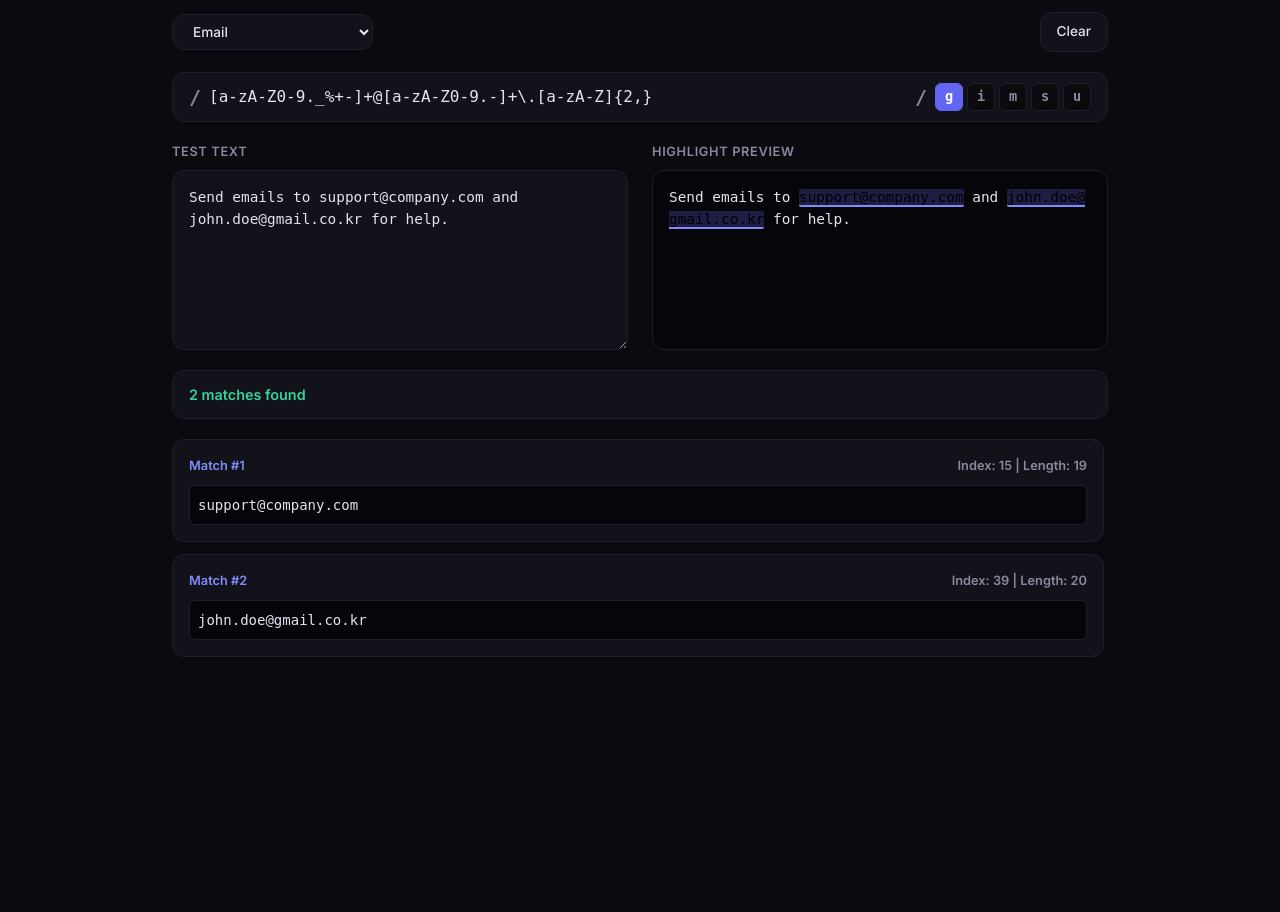
Test: RegexTool Component › displays capture groups in a table when present
The width and height of the screenshot is (1280, 912).
Replace the text in the field named "Regular expression pattern" with "(\\w+)@(\\w+\\.\\w+)" at (558, 97), box 209,83 -> 907,110
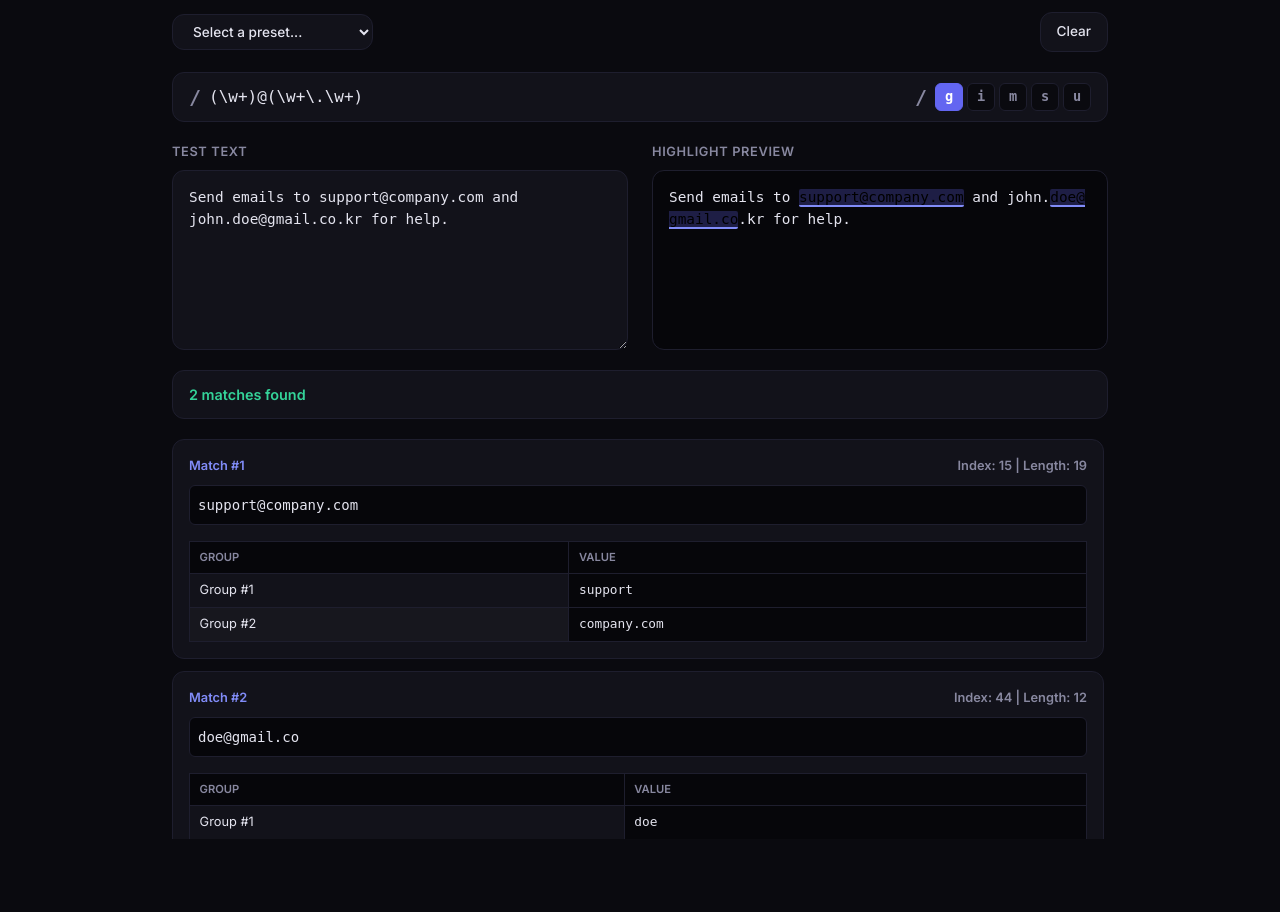
Replace the text in the text box labelled "Test Text" with "user@example.com" at (400, 260), box 172,170 -> 628,350
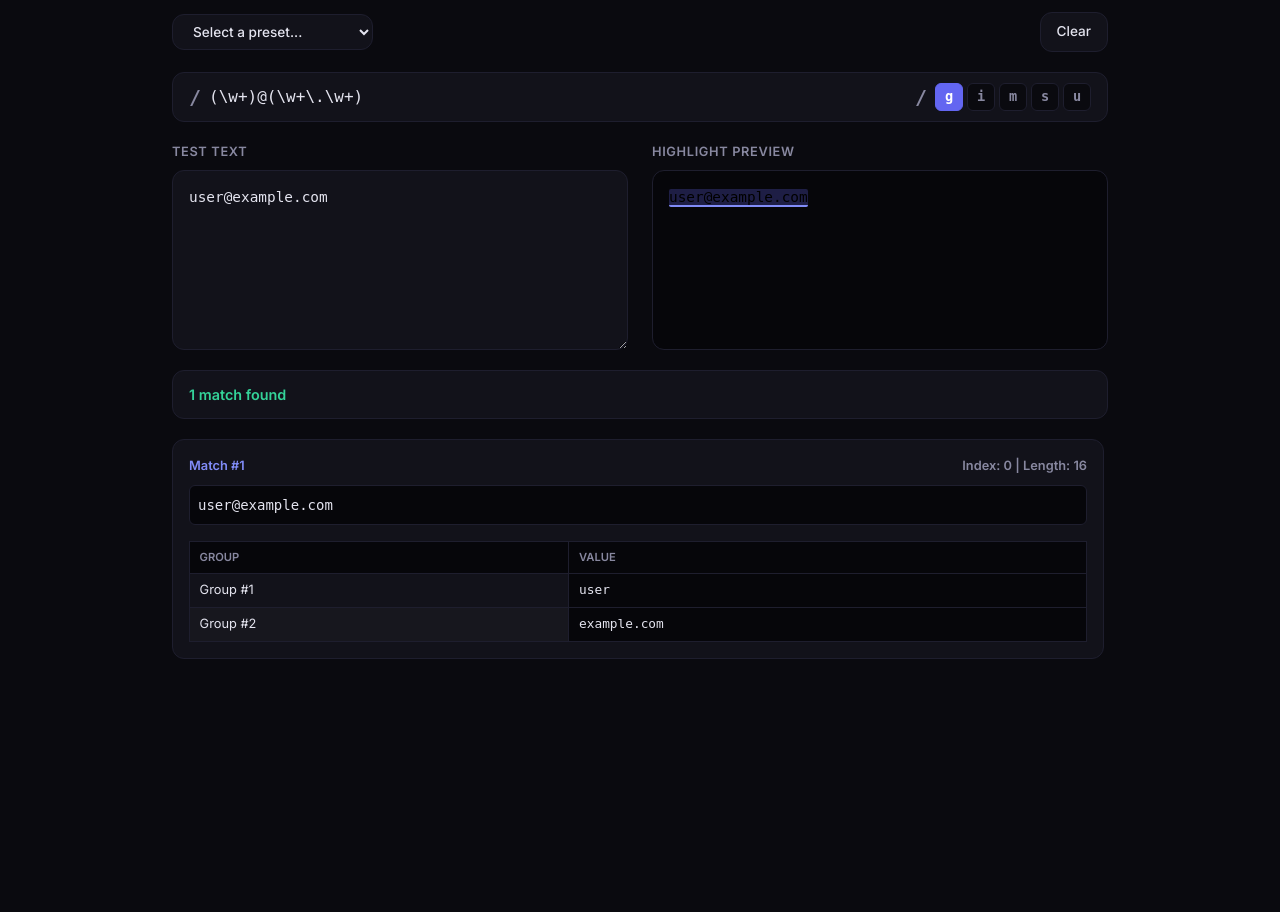
Check: the text "Group #1" is shown, box 190,573 -> 569,608
Check: the text "Group #2" is shown, box 190,608 -> 569,642
Check: the text "user" is shown, box 569,573 -> 1086,608
